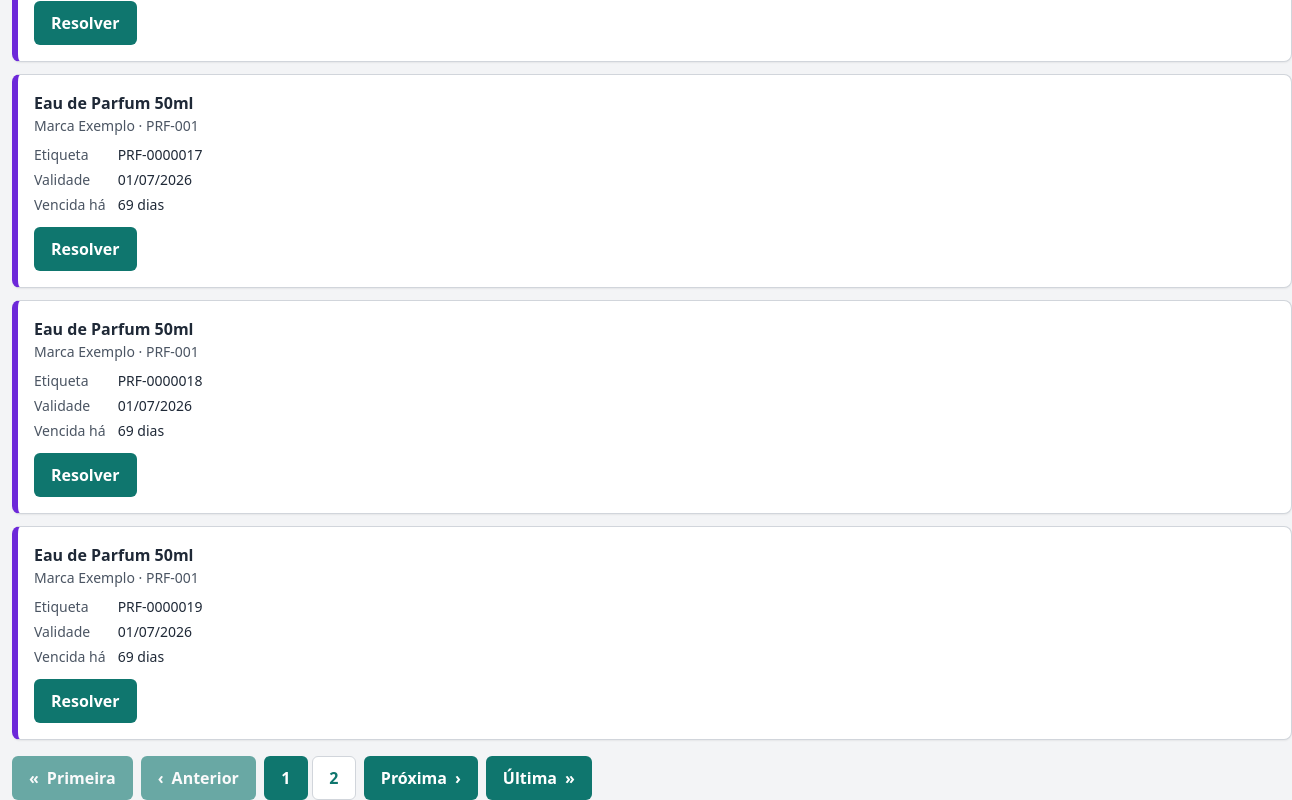
it: TelaDescartesPendentes (RF11) › pagina pedindo a página seguinte ao servidor
(page scrolled)
Click the button "Próxima ›": (421, 778) [364, 756, 478, 799]
(page scrolled)
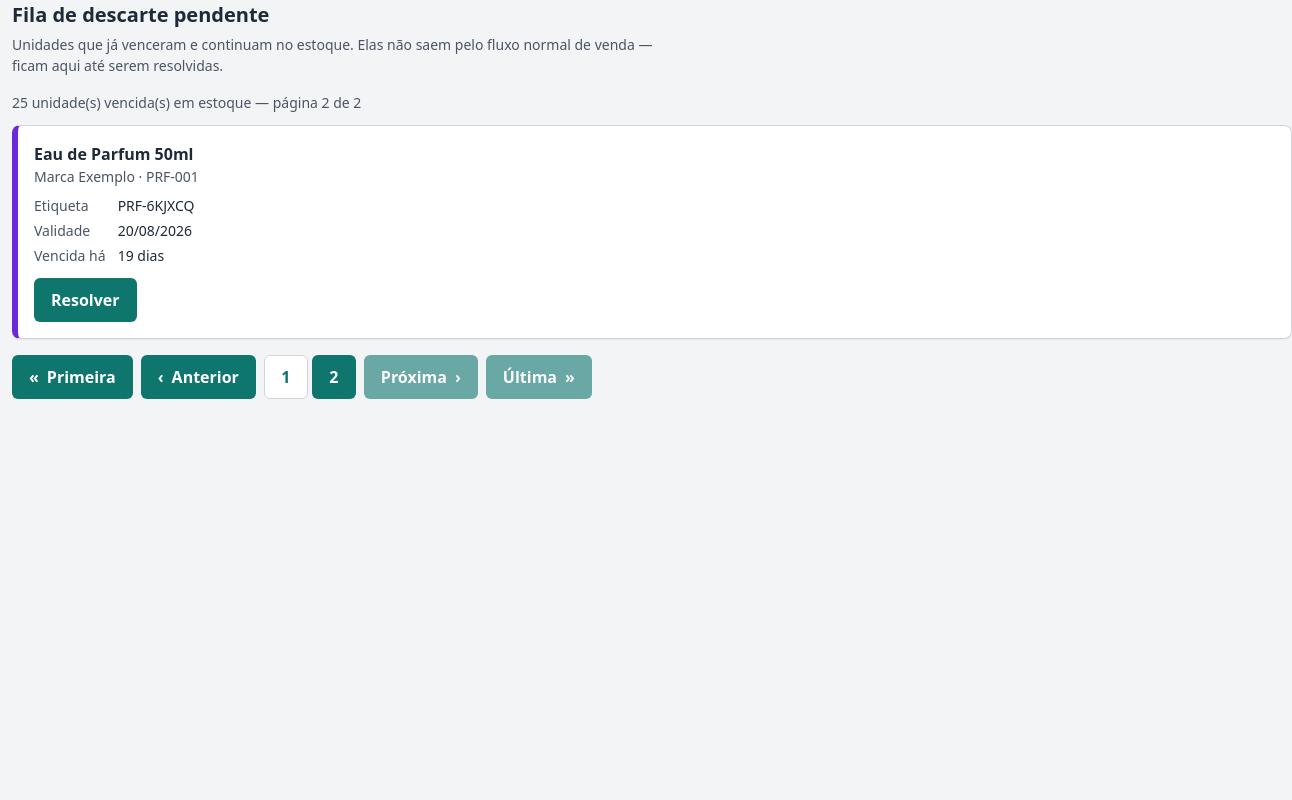
Result: the text "PRF-6KJXCQ" is shown at [118, 196, 194, 215]
